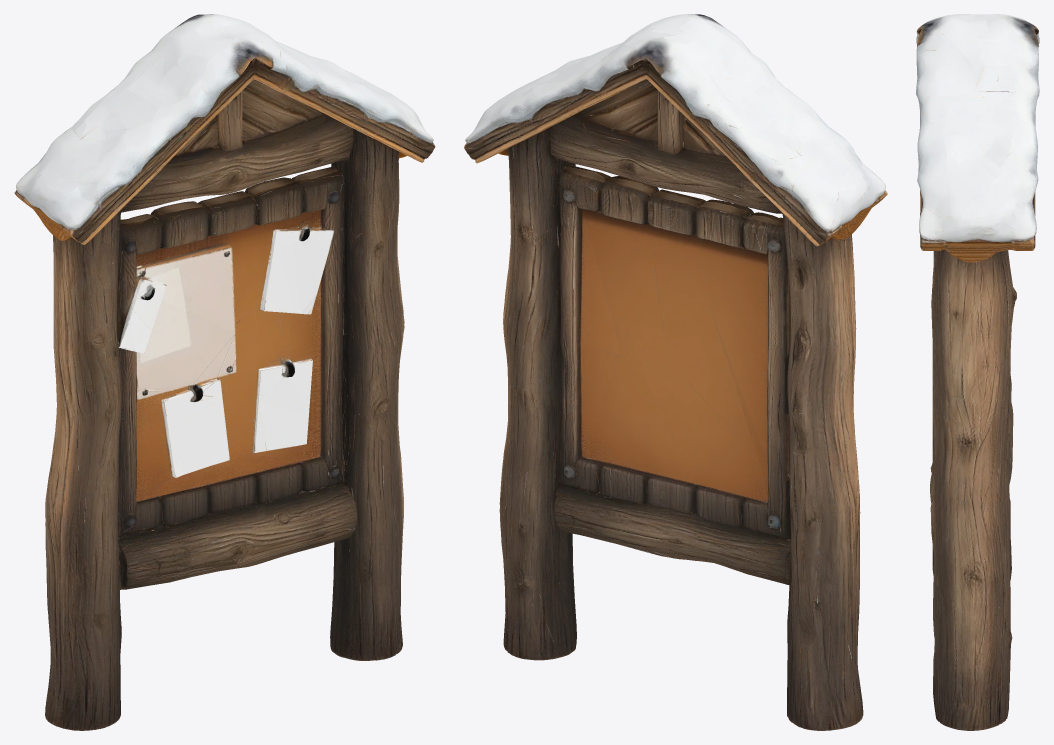
File: job_board.glb
The picture shows the model from 3 angles, left to right: view 1: azimuth 30°, elevation 25°; view 2: azimuth 150°, elevation 25°; view 3: azimuth 270°, elevation 25°; orthographic projection. The views are drawn at different scales.
Bounding box in the file's own units: 1.13 × 1.9 × 0.3371.
Materials: 1 (1 with a texture image).
